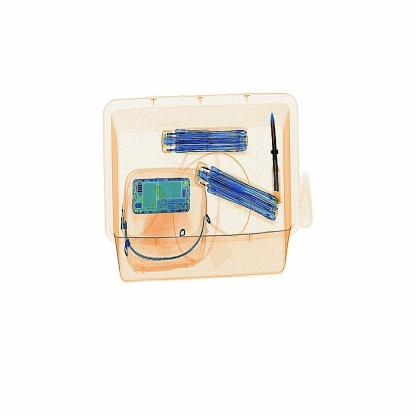gun: (266, 99, 284, 223)
